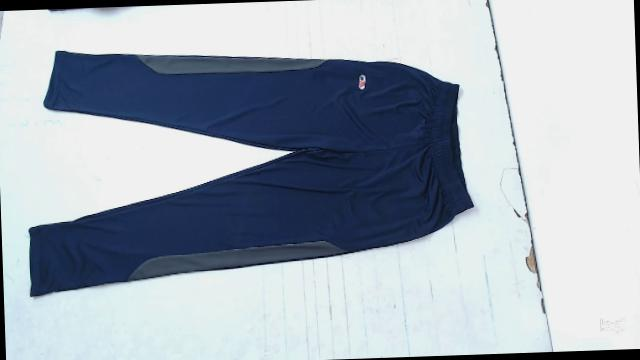new-garment: (29, 51, 473, 296)
